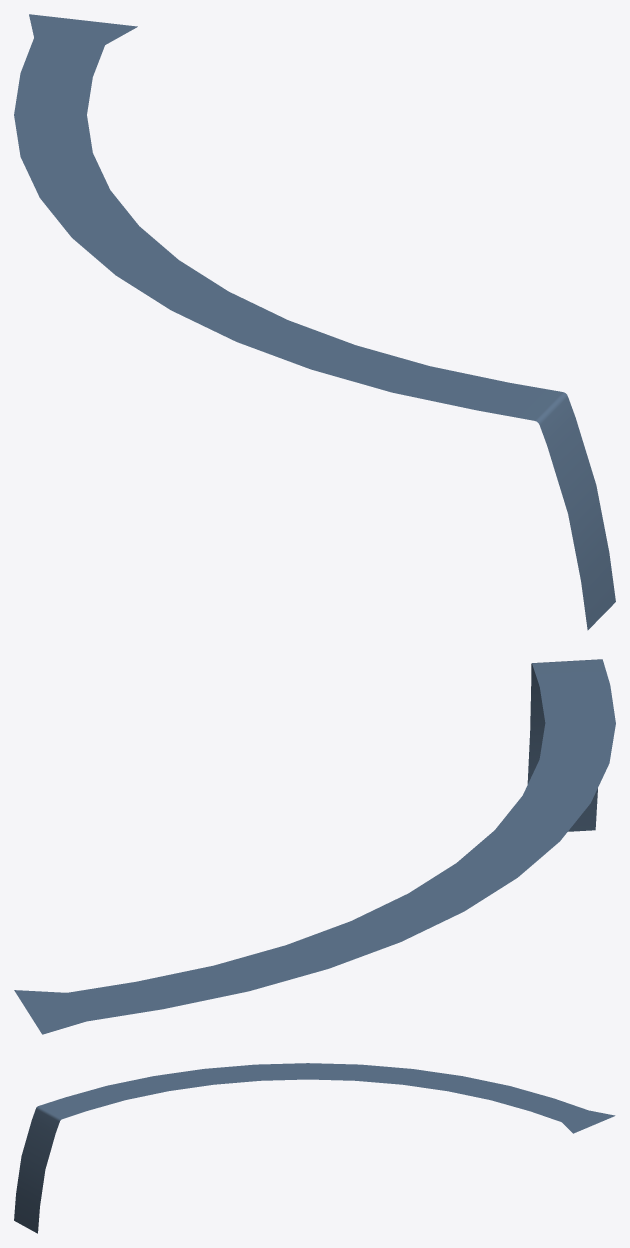
The model's file is SM_WaterMesh_Temple.fbx.
3 renders of one model, top to bottom at view 1: azimuth 30°, elevation 25°; view 2: azimuth 150°, elevation 25°; view 3: azimuth 270°, elevation 25°, orthographic. The views are drawn at different scales.
Parts seen in each view (by area): view 1: polySurface997; view 2: polySurface997; view 3: polySurface997.
Part boxes in pixels (box(x1,y1,x2,y2)): polySurface997: box(14, 14, 615, 630); polySurface997: box(14, 659, 615, 1034); polySurface997: box(14, 1063, 615, 1233).
Size of the model in its own units: 242 by 170 by 870.
